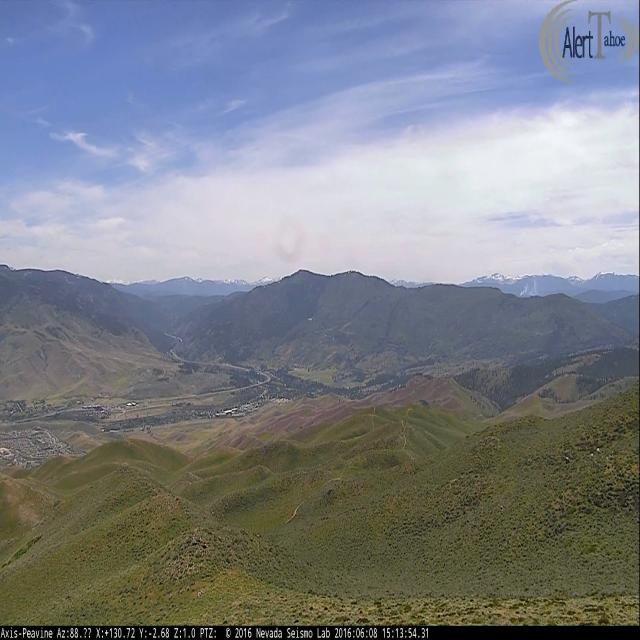smoke: (518, 278, 539, 298)
